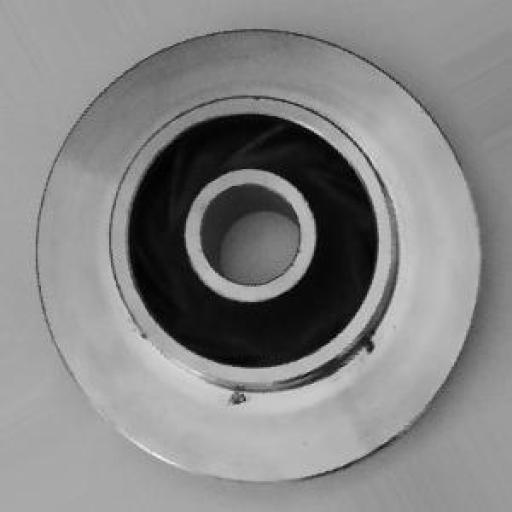defect: (178, 351, 432, 418), (387, 346, 389, 351)
